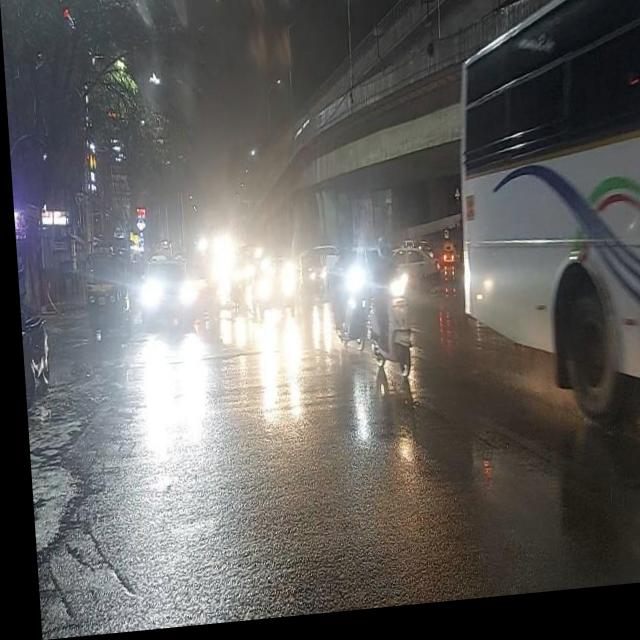bus: (449, 12, 640, 475)
car: (134, 258, 209, 353), (241, 264, 295, 314), (206, 259, 243, 313), (196, 236, 239, 258), (245, 241, 265, 261)
motorcycle: (367, 254, 434, 399), (325, 244, 382, 377), (79, 242, 128, 349)
